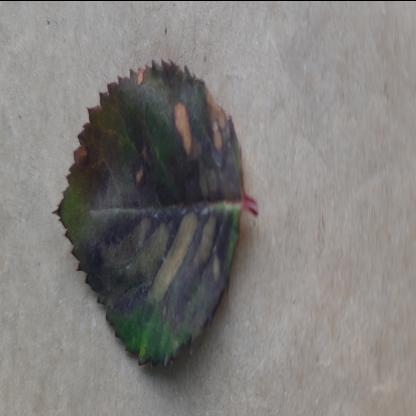powdery-mildew: (52, 51, 248, 370)
